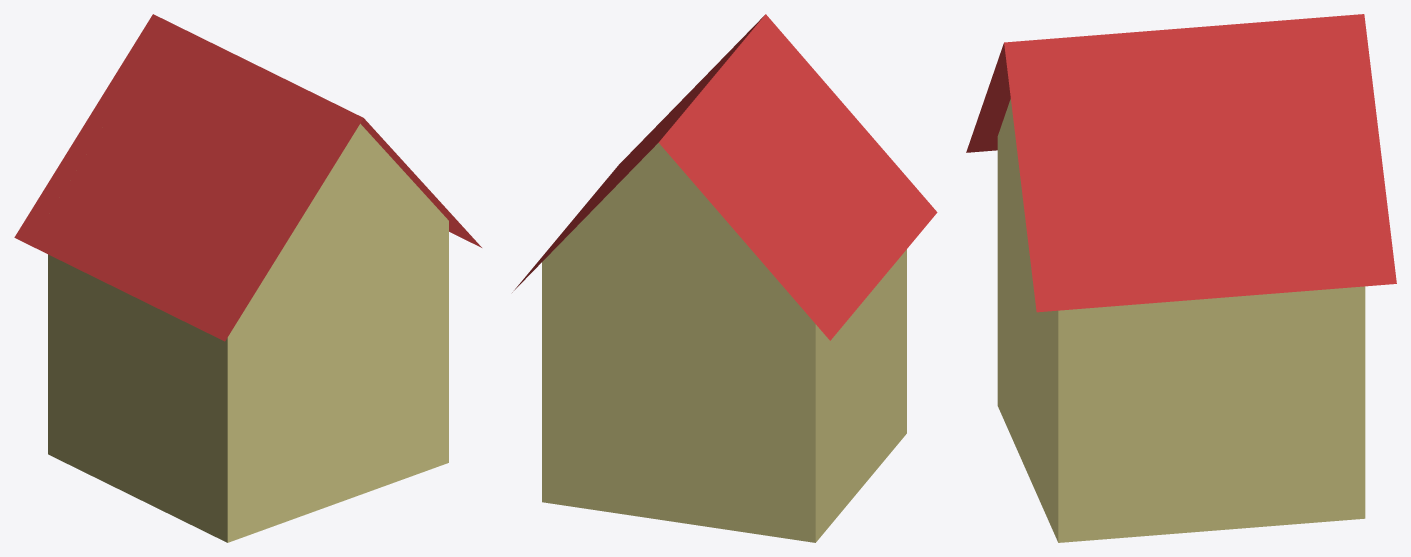
The picture shows the model from 3 angles, left to right: view 1: azimuth 30°, elevation 25°; view 2: azimuth 150°, elevation 25°; view 3: azimuth 270°, elevation 25°; orthographic projection. The views are drawn at different scales.
Visible parts, largest first — view 1: group_5, group_3, group_4; view 2: group_5, group_3, group_4; view 3: group_5, group_3, group_4.
Boxes of the visible parts, left/top/right/bottom form: group_5: left=48, top=123, right=448, bottom=542; group_3: left=48, top=14, right=481, bottom=340; group_4: left=14, top=15, right=386, bottom=341; group_5: left=542, top=143, right=906, bottom=542; group_3: left=512, top=15, right=937, bottom=305; group_4: left=515, top=14, right=936, bottom=340; group_5: left=997, top=98, right=1365, bottom=542; group_3: left=968, top=15, right=1396, bottom=311; group_4: left=966, top=14, right=1396, bottom=312.
Bounding box in the file's own units: 12.29 × 11.9 × 13.42.
